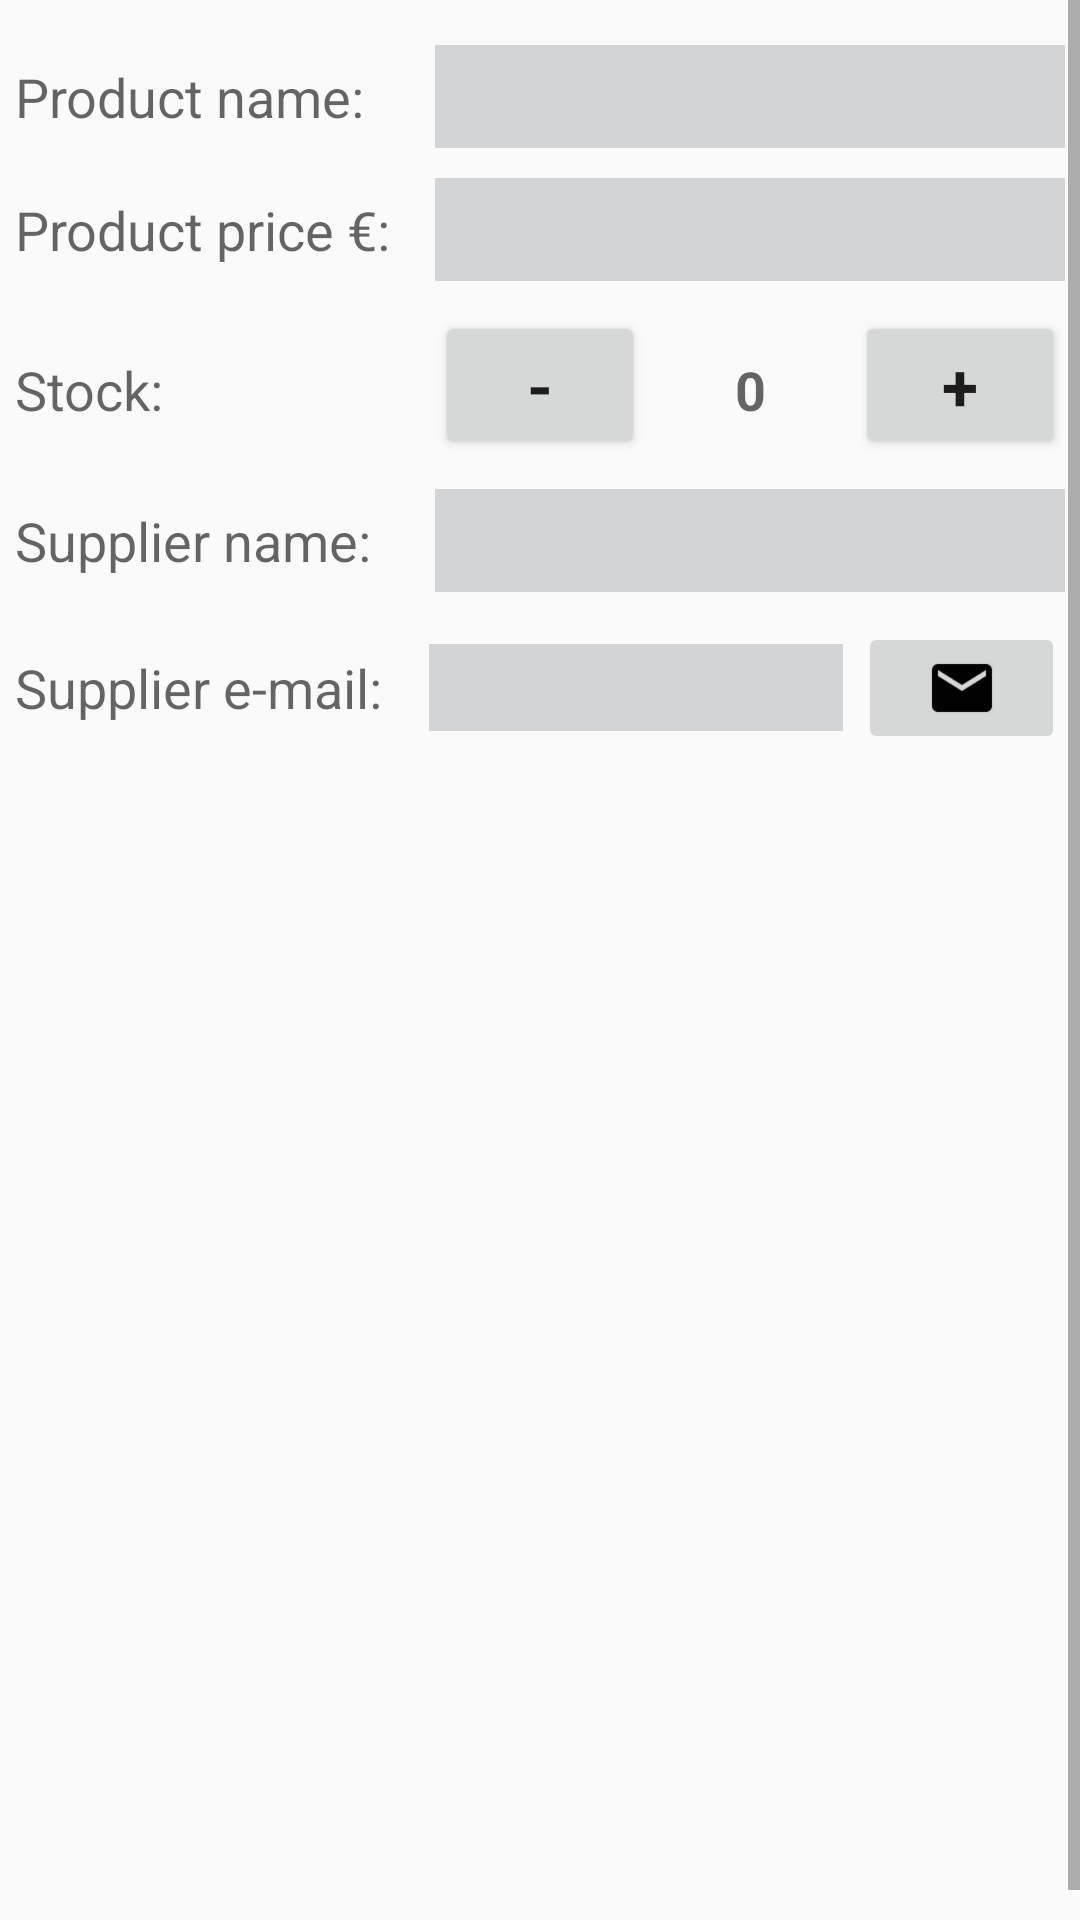

Screen size 1080*1920. Icon name, then its center in pixels as point (x, y):
email: point (961, 688)
